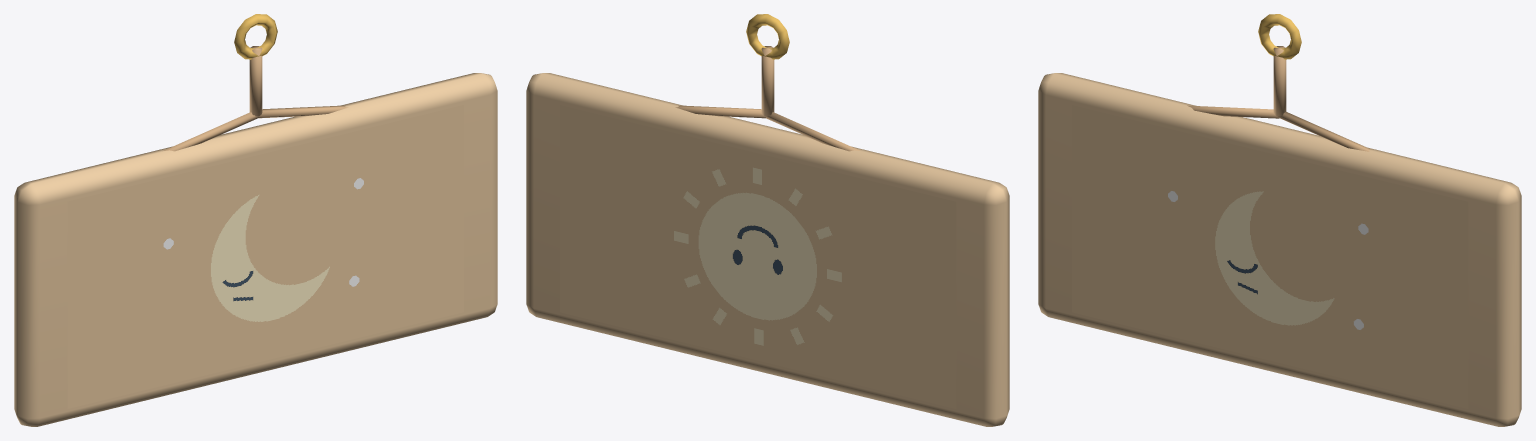
The model's file is open_sign.glb.
3 renders of one model, left to right at view 1: azimuth 30°, elevation 25°; view 2: azimuth 150°, elevation 25°; view 3: azimuth 330°, elevation 25°, orthographic.
Visible parts, largest first — view 1: Plate, Body; view 2: Plate, Body; view 3: Plate, Body.
Part boxes in pixels (x1,y1,x2,y2): Plate: (14,73,497,426); Body: (234,14,277,116); Plate: (526,73,1009,426); Body: (746,14,789,116); Plate: (1038,73,1521,426); Body: (1258,14,1301,116).
Size of the model in its own units: 0.35 by 0.25 by 0.0248.
5 materials, 5 textured.
